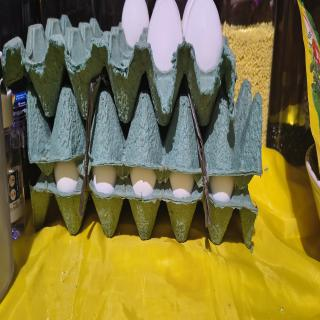Egg: (127, 102, 162, 239), (180, 0, 226, 96), (90, 103, 122, 239), (47, 114, 83, 230), (200, 110, 233, 227), (172, 96, 197, 224), (150, 4, 179, 98), (118, 2, 148, 51)
